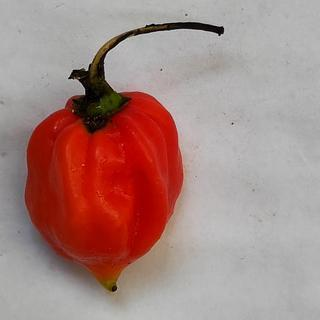Grade-A: (18, 93, 193, 295)
